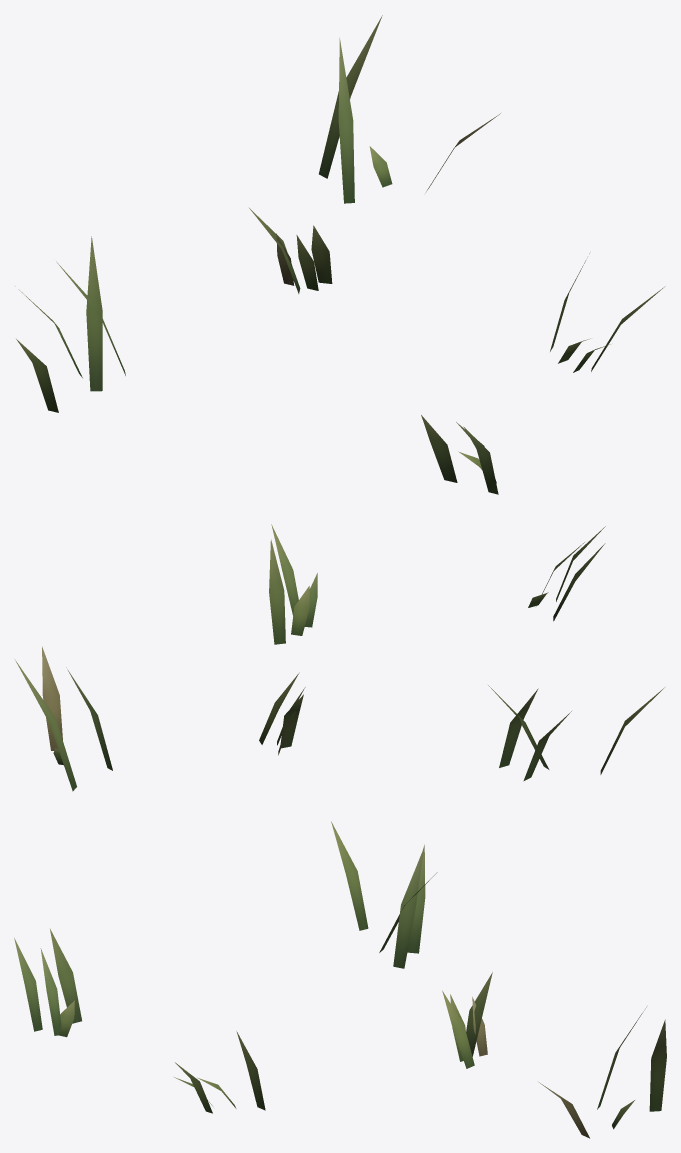
File: meadow_low_mid.gltf
The picture shows the model from 3 angles, top to bottom: view 1: azimuth 30°, elevation 25°; view 2: azimuth 150°, elevation 25°; view 3: azimuth 270°, elevation 25°; orthographic projection. The views are drawn at different scales.
Parts seen in each view (by area): view 1: meadow_low_mid; view 2: meadow_low_mid; view 3: meadow_low_mid.
Part boxes in pixels (x1,y1,x2,y2): meadow_low_mid: (15, 15, 665, 494); meadow_low_mid: (15, 524, 664, 791); meadow_low_mid: (14, 821, 666, 1138).
Size of the model in its own units: 1.03 by 0.2281 by 1.13.
Materials: 3 (3 with a texture image).
